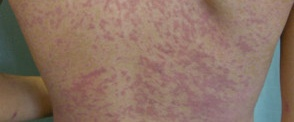SJS-TEN: (21, 0, 268, 122)
